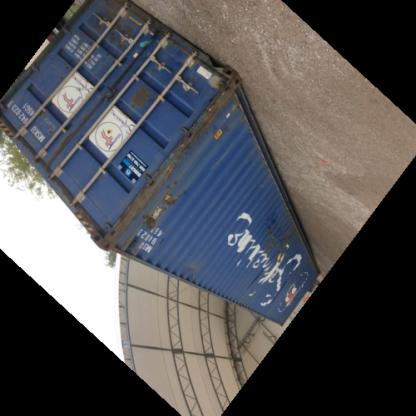Damage: (188, 80, 235, 152), (257, 222, 295, 266), (162, 178, 197, 214), (120, 78, 152, 117), (182, 260, 209, 284), (138, 212, 162, 236)
